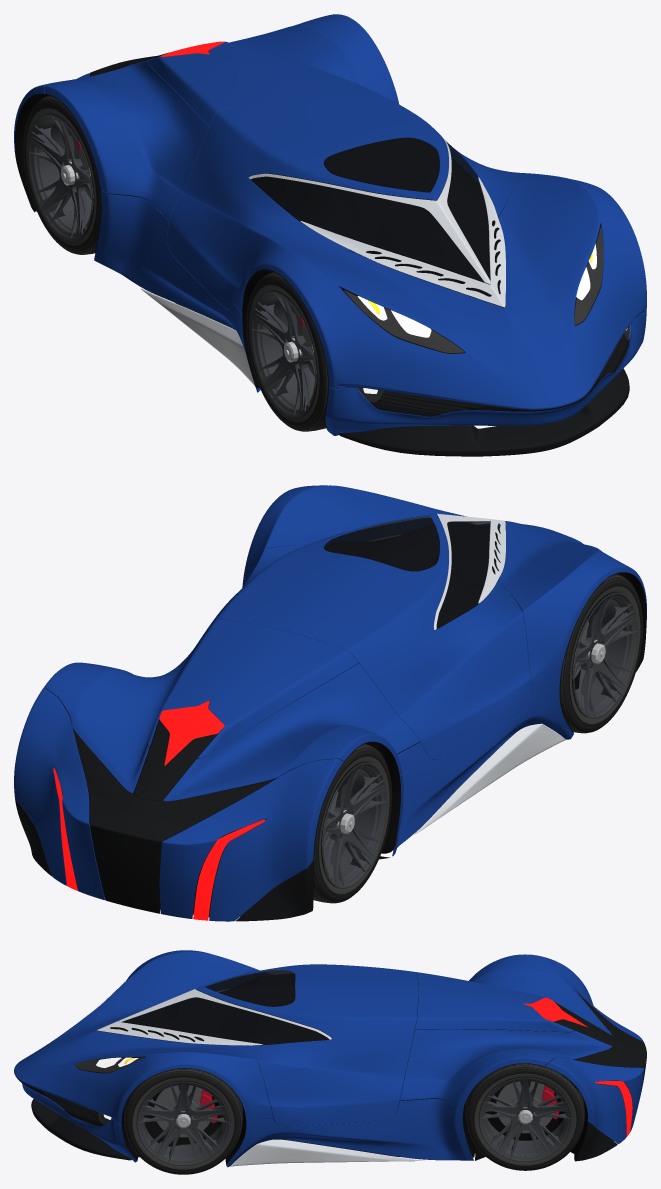
Rendered from concept-car-039.glb.
3 renders of one model, top to bottom at view 1: azimuth 30°, elevation 25°; view 2: azimuth 150°, elevation 25°; view 3: azimuth 270°, elevation 25°, orthographic. The views are drawn at different scales.
Parts seen in each view (by area): view 1: body, blackout, glass, trim, chrome, wheel_rr_rim, wheel_fr_rim, headlight_lens, wheel_fr_tyre, wheel_rr_tyre, headlight; view 2: body, trim, blackout, glass, wheel_rr_rim, wheel_fr_rim, chrome, taillight, wheel_fr_tyre, wheel_rr_tyre; view 3: body, blackout, glass, trim, chrome, wheel_rl_rim, wheel_fl_rim, wheel_rl_tyre, wheel_fl_tyre, taillight, wheel_rl_disc, wheel_fl_disc (+3 smaller).
Boxes of the visible parts, <box> form: body: <box>14,14,646,435</box>; blackout: <box>15,93,629,430</box>; glass: <box>251,137,490,281</box>; trim: <box>14,52,629,456</box>; chrome: <box>141,136,505,386</box>; wheel_rr_rim: <box>28,114,93,240</box>; wheel_fr_rim: <box>251,290,316,416</box>; headlight_lens: <box>345,228,629,401</box>; wheel_fr_tyre: <box>246,275,327,431</box>; wheel_rr_tyre: <box>23,98,100,254</box>; headlight: <box>357,244,627,393</box>; body: <box>14,485,646,921</box>; trim: <box>15,720,313,921</box>; blackout: <box>46,522,646,916</box>; glass: <box>324,516,490,628</box>; wheel_rr_rim: <box>322,762,387,888</box>; wheel_fr_rim: <box>572,592,637,718</box>; chrome: <box>362,513,565,834</box>; taillight: <box>53,700,265,920</box>; wheel_fr_tyre: <box>562,576,642,732</box>; wheel_rr_tyre: <box>282,746,392,902</box>; body: <box>14,950,644,1167</box>; blackout: <box>48,973,628,1163</box>; glass: <box>122,970,328,1044</box>; trim: <box>18,989,646,1161</box>; chrome: <box>97,971,424,1166</box>; wheel_rl_rim: <box>479,1077,572,1161</box>; wheel_fl_rim: <box>137,1081,230,1165</box>; wheel_rl_tyre: <box>467,1066,583,1170</box>; wheel_fl_tyre: <box>125,1070,241,1174</box>; taillight: <box>523,997,632,1136</box>; wheel_rl_disc: <box>496,1081,552,1133</box>; wheel_fl_disc: <box>154,1085,210,1137</box>.
Size of the model in its own units: 2 by 1.1 by 4.65.
Materials: 15 (2 with a texture image).
